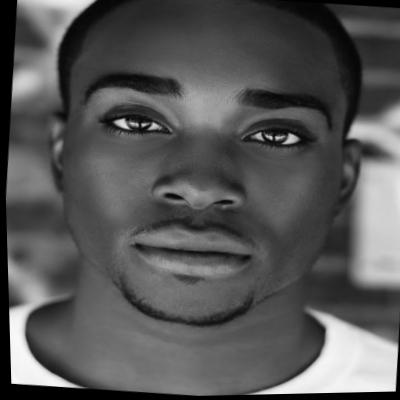netural: (50, 0, 357, 330)
